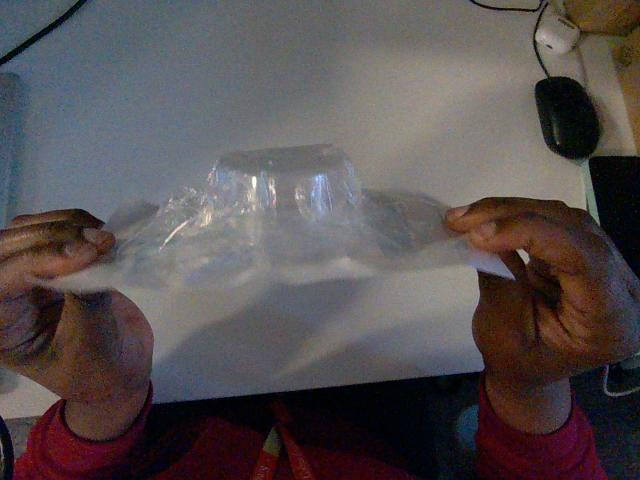gallipot: (89, 145, 509, 288)
